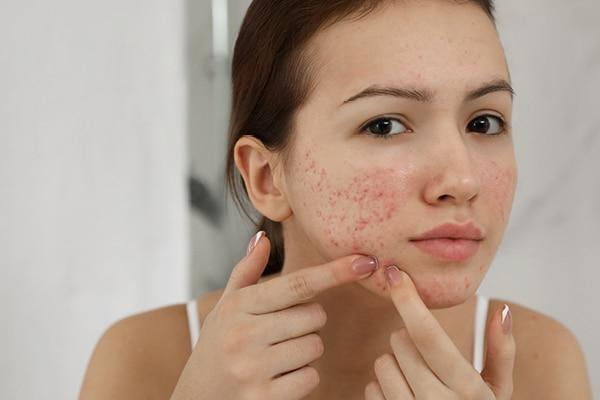Acne: (299, 129, 410, 268), (376, 43, 505, 86), (412, 261, 489, 302), (481, 154, 514, 240), (374, 269, 386, 295)
